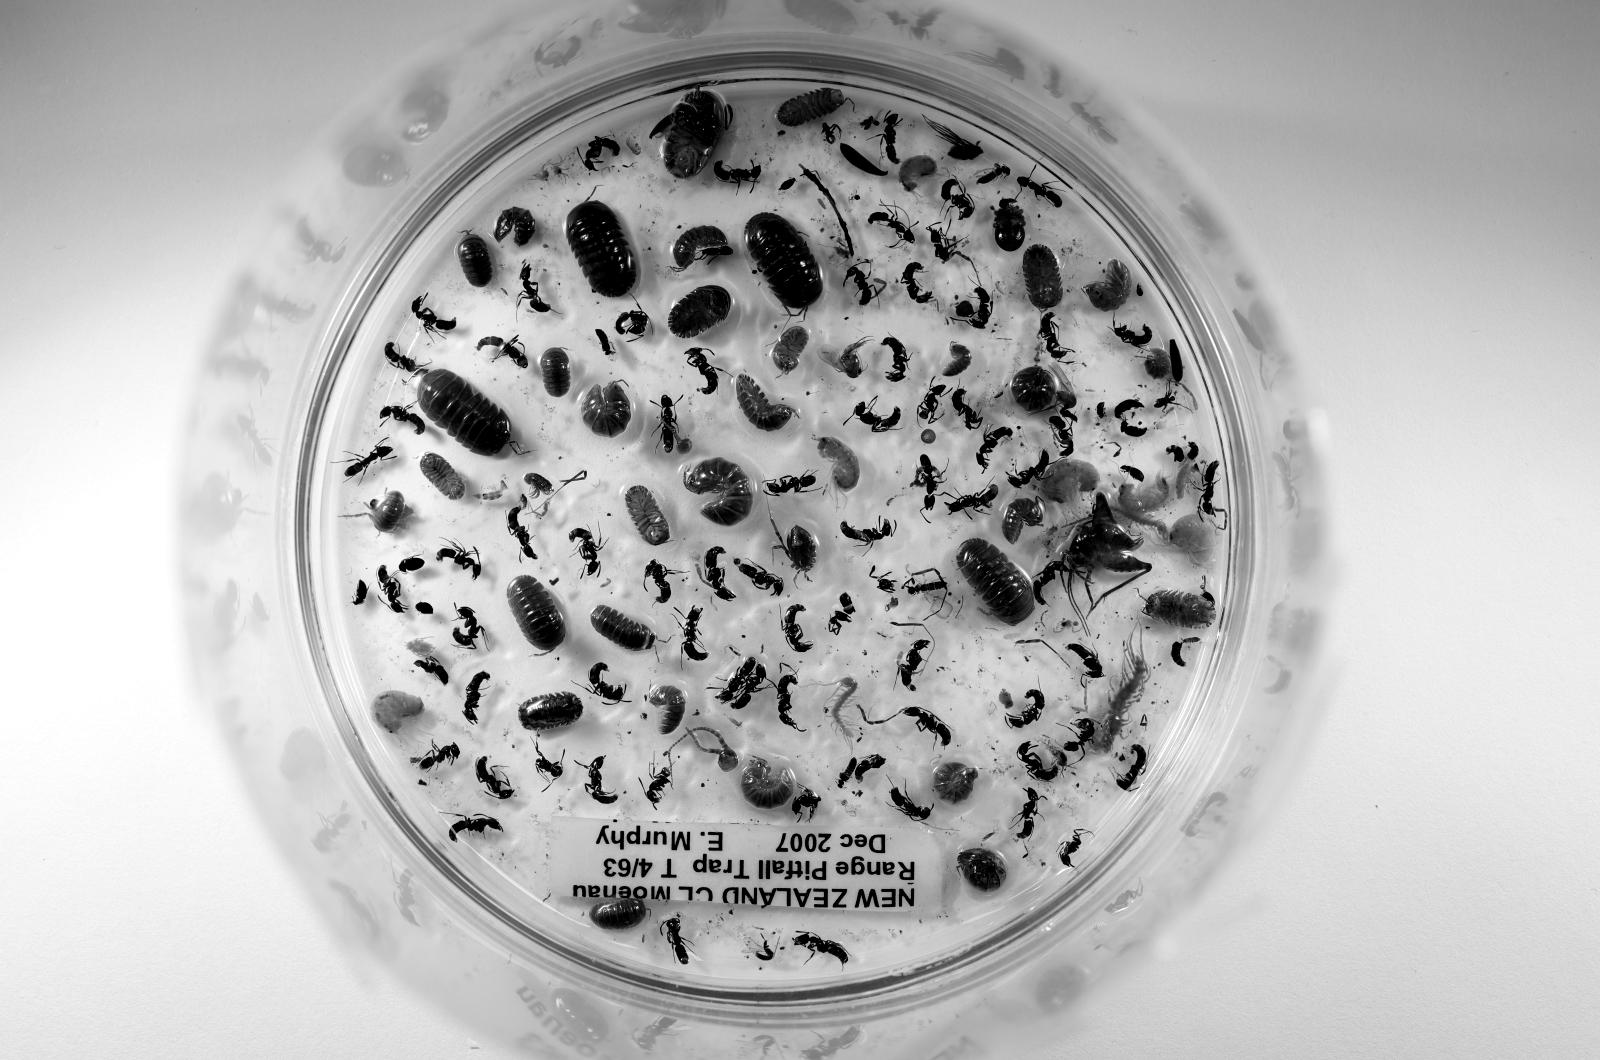acari: (1134, 283, 1144, 295)
amphipoda: (1038, 460, 1100, 503), (1169, 516, 1216, 568), (372, 689, 425, 733), (816, 438, 859, 491), (1119, 475, 1169, 516), (897, 155, 938, 193)
chilopoda: (1091, 624, 1150, 752), (816, 677, 856, 739)
coleoptera: (912, 453, 944, 512), (947, 484, 1000, 519), (903, 708, 950, 745), (1006, 450, 1050, 488), (897, 640, 931, 689), (1038, 311, 1072, 360), (1019, 742, 1059, 783), (975, 425, 1012, 469), (853, 401, 900, 435), (869, 208, 916, 242), (841, 519, 897, 547), (1197, 460, 1225, 516), (1006, 689, 1044, 730), (1031, 562, 1066, 606), (900, 261, 934, 304), (941, 177, 975, 220), (1019, 174, 1062, 208), (1116, 745, 1147, 792), (1062, 717, 1097, 758), (781, 606, 812, 652), (1066, 643, 1103, 680), (891, 786, 931, 820), (881, 335, 909, 382), (950, 388, 981, 429), (844, 264, 875, 304), (1047, 413, 1075, 457), (1016, 789, 1041, 838), (916, 385, 947, 422), (928, 224, 959, 261), (969, 286, 994, 329), (881, 112, 900, 165), (791, 789, 822, 820), (1059, 829, 1084, 866), (1112, 326, 1153, 348), (1112, 398, 1144, 422), (594, 329, 616, 357), (906, 578, 947, 593), (838, 758, 856, 789), (978, 165, 1009, 183), (753, 941, 775, 963), (1122, 419, 1147, 438), (397, 556, 425, 571), (1116, 559, 1150, 571), (353, 581, 369, 606), (1122, 466, 1144, 481), (416, 602, 434, 615), (1097, 401, 1106, 419)
diptera: (819, 338, 869, 379), (1053, 366, 1078, 410)
formicidae: (575, 758, 619, 804), (697, 547, 734, 599), (716, 655, 756, 702), (675, 606, 709, 661), (475, 335, 528, 370), (344, 441, 394, 478), (734, 559, 784, 596), (794, 932, 847, 966), (475, 758, 516, 801), (506, 506, 538, 559), (588, 661, 625, 705), (775, 665, 800, 730), (731, 665, 766, 711), (659, 916, 691, 966), (569, 528, 603, 575), (688, 348, 722, 394), (519, 264, 550, 314), (462, 671, 491, 724), (438, 543, 481, 578), (412, 298, 456, 332), (450, 814, 503, 842), (644, 562, 681, 602), (378, 404, 425, 435), (762, 472, 816, 497), (453, 606, 484, 649), (412, 742, 459, 770), (581, 137, 619, 171), (712, 161, 762, 186), (534, 739, 562, 783), (644, 767, 672, 811), (616, 307, 650, 342), (384, 342, 422, 373), (378, 565, 403, 612), (659, 394, 678, 453), (416, 658, 450, 686)
isopoda: (419, 370, 512, 457), (744, 214, 822, 311), (566, 202, 638, 298), (956, 537, 1034, 624), (659, 90, 731, 180), (506, 575, 566, 652), (684, 460, 753, 525), (734, 376, 794, 432), (669, 286, 731, 338), (591, 606, 656, 652), (578, 382, 631, 438), (625, 484, 669, 547), (1144, 590, 1216, 627), (778, 87, 844, 127), (1022, 245, 1062, 311), (741, 758, 794, 807), (1081, 261, 1131, 311), (672, 227, 728, 270), (519, 693, 584, 730), (419, 453, 466, 500), (956, 848, 1006, 891), (1012, 366, 1056, 413), (1000, 497, 1044, 543), (647, 683, 684, 736), (591, 897, 647, 932), (459, 233, 494, 286), (934, 764, 978, 804), (772, 326, 809, 373), (541, 348, 572, 398), (494, 208, 534, 245), (372, 491, 409, 531), (1144, 348, 1172, 379), (944, 345, 972, 376)
opiliones: (772, 519, 819, 581), (925, 118, 984, 161), (994, 199, 1025, 252)
orthoptera: (1062, 494, 1150, 606)
